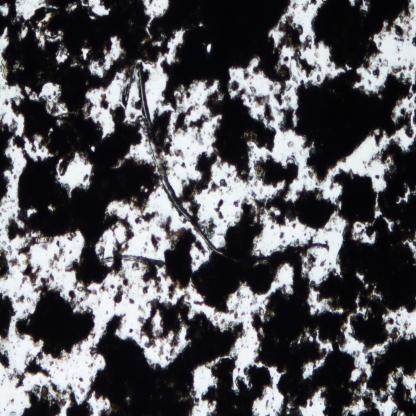Background material: (0, 0, 163, 244), (93, 306, 246, 416), (145, 0, 296, 108), (253, 280, 363, 416), (291, 64, 416, 179), (148, 0, 296, 89), (313, 239, 416, 342), (332, 141, 416, 248), (17, 261, 97, 361), (204, 83, 278, 189), (195, 203, 266, 310), (310, 1, 414, 74), (252, 152, 336, 230), (362, 329, 416, 414), (248, 230, 332, 284), (201, 353, 272, 414), (156, 218, 204, 294), (276, 14, 328, 79), (138, 298, 191, 356), (66, 240, 124, 291), (17, 377, 94, 415), (178, 152, 224, 205), (152, 108, 206, 152), (7, 354, 52, 394), (107, 280, 140, 307), (16, 251, 40, 287), (0, 290, 15, 344), (0, 241, 19, 281), (143, 265, 162, 298), (46, 244, 66, 273), (274, 104, 294, 133), (395, 18, 412, 46), (134, 210, 158, 226), (213, 197, 226, 222), (208, 178, 226, 196), (150, 231, 163, 252), (0, 350, 10, 372), (410, 30, 416, 47)
Cellulose filter fibre: (94, 252, 166, 270)
Diatom: (251, 265, 272, 295)
Microfibre: (137, 64, 242, 261)
